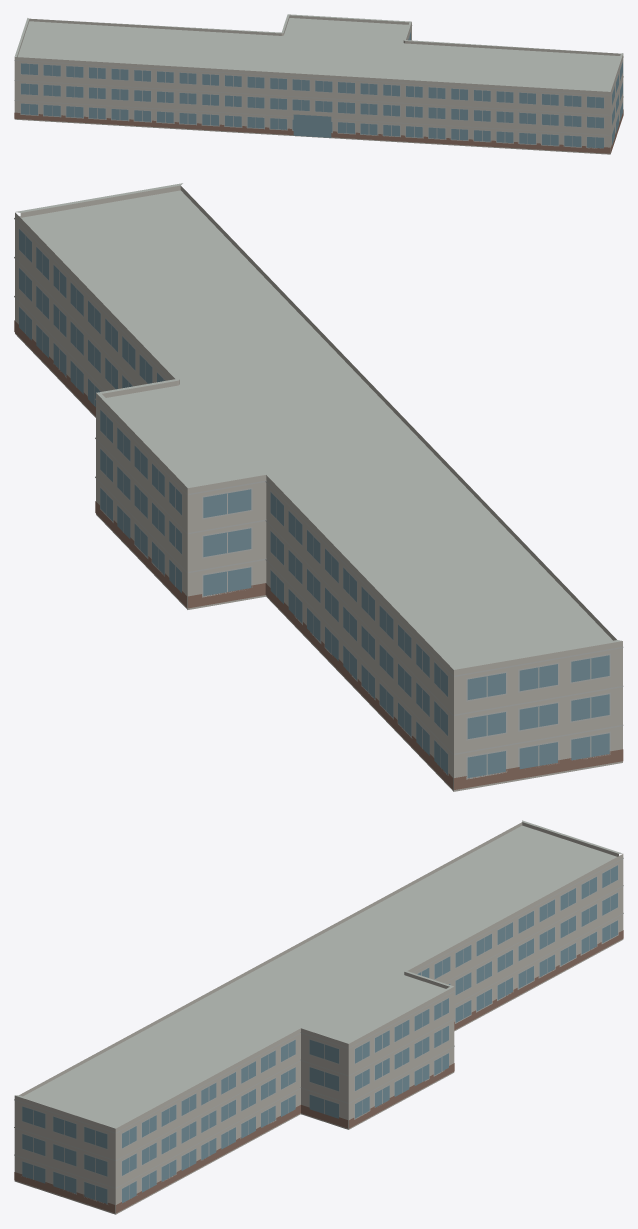
File: public-8b779c5c-06f4-4c03-ae54-adc88d15064e.glb
3 views of the same model, one above another, from view 1: azimuth 30°, elevation 25°; view 2: azimuth 150°, elevation 25°; view 3: azimuth 270°, elevation 25° (orthographic). The views are drawn at different scales.
Visible parts, largest first — view 1: public-8b779c5c-06f4-4c03-ae54-adc88d15064e; view 2: public-8b779c5c-06f4-4c03-ae54-adc88d15064e; view 3: public-8b779c5c-06f4-4c03-ae54-adc88d15064e.
Part boxes in pixels (x1,y1,x2,y2): public-8b779c5c-06f4-4c03-ae54-adc88d15064e: (14,14,623,154); public-8b779c5c-06f4-4c03-ae54-adc88d15064e: (14,183,623,791); public-8b779c5c-06f4-4c03-ae54-adc88d15064e: (14,820,623,1214).
Size of the model in its own units: 70.47 by 9.15 by 58.79.
